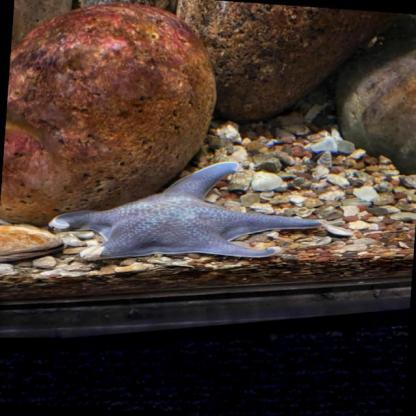starfish: (45, 149, 331, 279)
